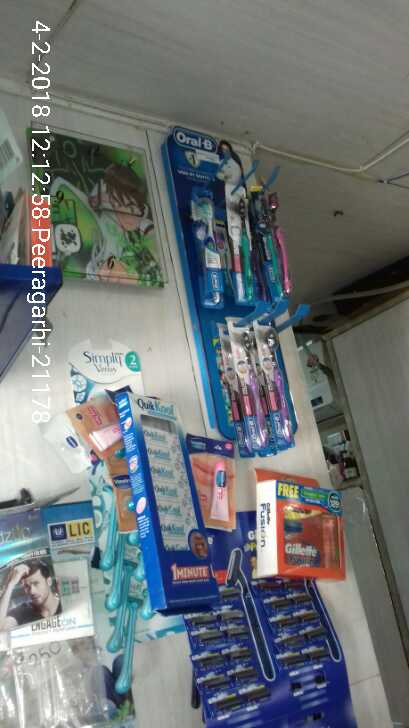oralb: (189, 184, 221, 297), (228, 201, 255, 301)
